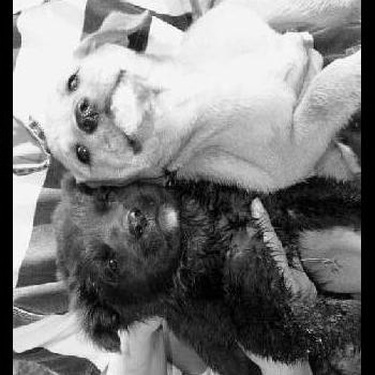dog: (29, 1, 358, 196), (51, 171, 358, 371)
